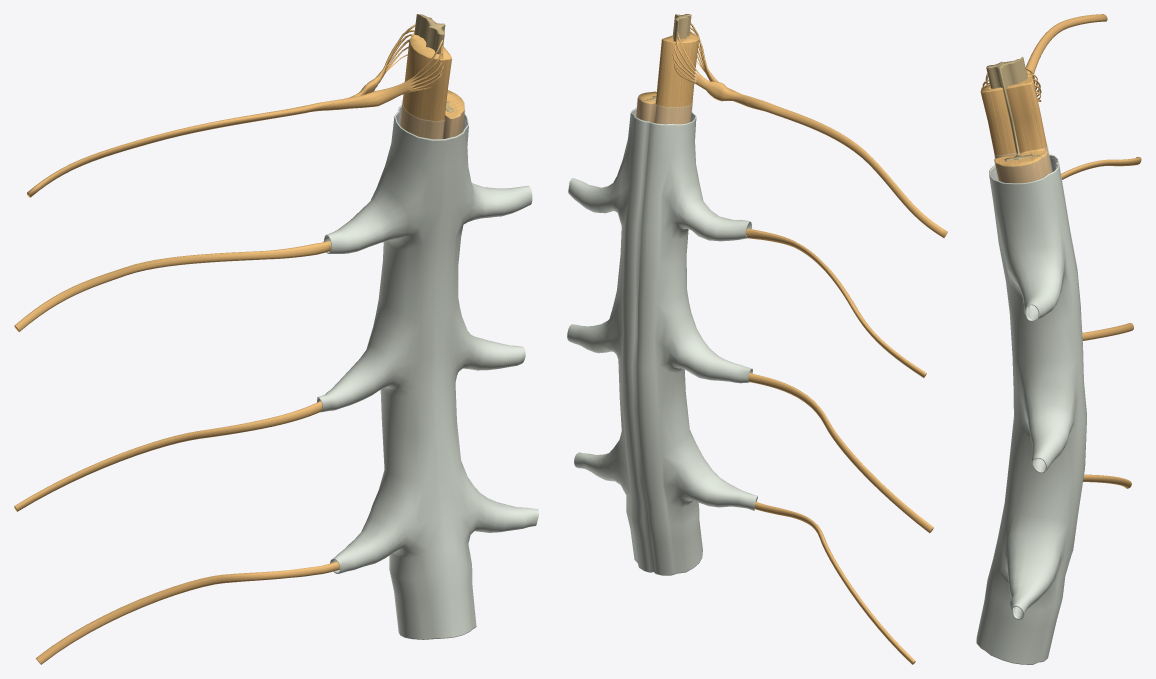
File: open3d-spinal-cord-nervous-01.glb
3 renders of one model, left to right at view 1: azimuth 30°, elevation 25°; view 2: azimuth 150°, elevation 25°; view 3: azimuth 270°, elevation 25°, orthographic. The views are drawn at different scales.
Visible parts, largest first — view 1: O3D_88c8de15e27958, O3D_0ecae6b0a1fe3d, O3D_b16f2e3a9d5112, O3D_c5c45dfd446d8a, O3D_f81ee6ba1f71c8, O3D_e8360fc74d6999; view 2: O3D_88c8de15e27958, O3D_0ecae6b0a1fe3d, O3D_b16f2e3a9d5112, O3D_c5c45dfd446d8a, O3D_f81ee6ba1f71c8; view 3: O3D_88c8de15e27958, O3D_b16f2e3a9d5112, O3D_0ecae6b0a1fe3d, O3D_e8360fc74d6999, O3D_f81ee6ba1f71c8, O3D_aa060d3c9447c9.
Boxes of the visible parts, box(x1,y1,x2,y2) form: O3D_88c8de15e27958: box(317, 105, 538, 639); O3D_0ecae6b0a1fe3d: box(14, 100, 338, 664); O3D_b16f2e3a9d5112: box(400, 31, 464, 139); O3D_c5c45dfd446d8a: box(333, 24, 443, 109); O3D_f81ee6ba1f71c8: box(399, 99, 464, 138); O3D_e8360fc74d6999: box(414, 14, 453, 112); O3D_88c8de15e27958: box(567, 108, 757, 575); O3D_0ecae6b0a1fe3d: box(746, 97, 947, 664); O3D_b16f2e3a9d5112: box(636, 32, 699, 124); O3D_c5c45dfd446d8a: box(672, 22, 751, 107); O3D_f81ee6ba1f71c8: box(636, 97, 692, 123); O3D_88c8de15e27958: box(976, 154, 1086, 664); O3D_b16f2e3a9d5112: box(980, 77, 1051, 183); O3D_0ecae6b0a1fe3d: box(1025, 14, 1141, 488); O3D_e8360fc74d6999: box(986, 57, 1041, 161); O3D_f81ee6ba1f71c8: box(994, 144, 1052, 182); O3D_aa060d3c9447c9: box(993, 158, 1057, 616).
Size of the model in its own units: 0.7498 by 0.9566 by 0.2427.
5 materials, 1 textured.
